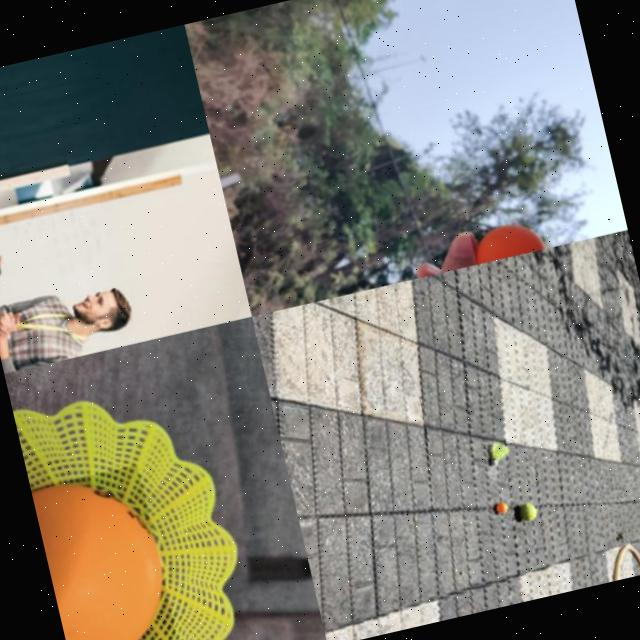ping-pong-ball: (30, 461, 179, 640), (467, 215, 546, 263), (496, 499, 508, 513)
